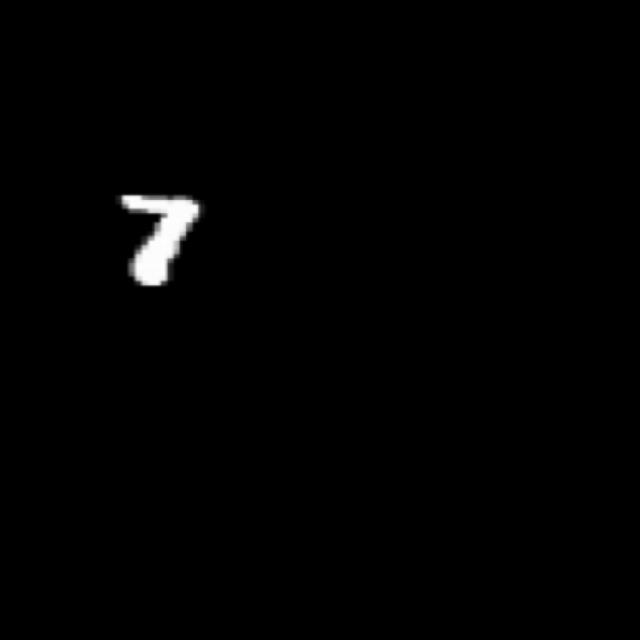seven -7-: (108, 179, 203, 294)
